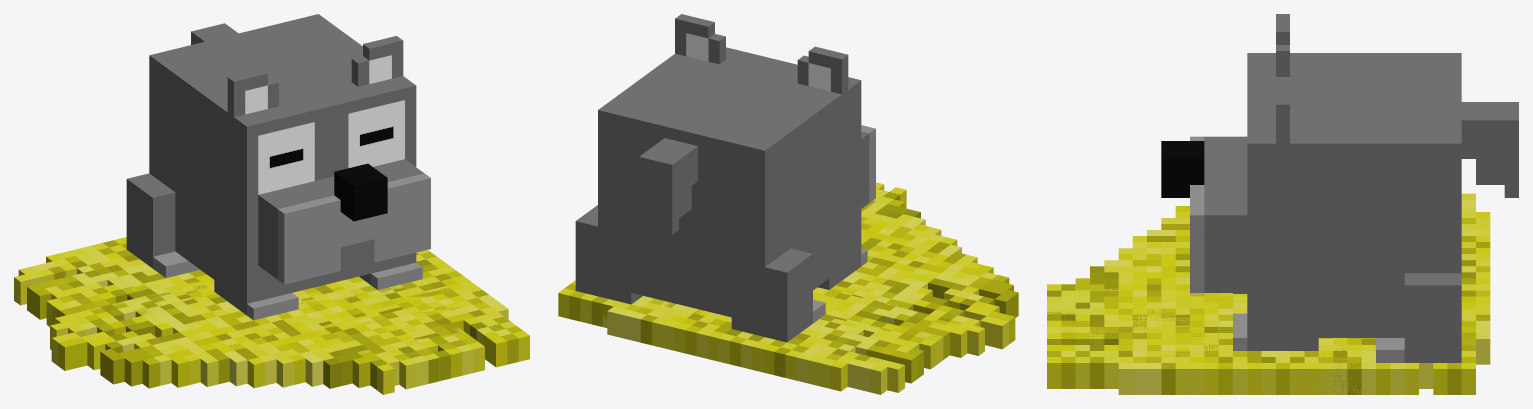
The model's file is wolf_mom.fbx.
3 renders of one model, left to right at view 1: azimuth 30°, elevation 25°; view 2: azimuth 150°, elevation 25°; view 3: azimuth 270°, elevation 25°, orthographic. The views are drawn at different scales.
Visible parts, largest first — view 1: Box_46, Rectangle_2, Rectangle_1, Rectangle; view 2: Box_46, Rectangle, Rectangle_2, Rectangle_1; view 3: Box_46, Rectangle_1, Rectangle_2, Rectangle.
Part boxes in pixels (box(x1,y1,x2,y2)): Box_46: box(126, 14, 430, 320); Rectangle_2: box(50, 277, 466, 388); Rectangle_1: box(292, 250, 529, 394); Rectangle: box(14, 237, 429, 326); Box_46: box(575, 14, 875, 342); Rectangle: box(558, 280, 961, 394); Rectangle_2: box(813, 188, 1018, 359); Rectangle_1: box(580, 182, 906, 324); Box_46: box(1161, 14, 1518, 362); Rectangle_1: box(1047, 284, 1475, 394); Rectangle_2: box(1047, 206, 1247, 356); Rectangle: box(1290, 193, 1490, 394).
Size of the model in its own units: 33 by 21 by 33.
